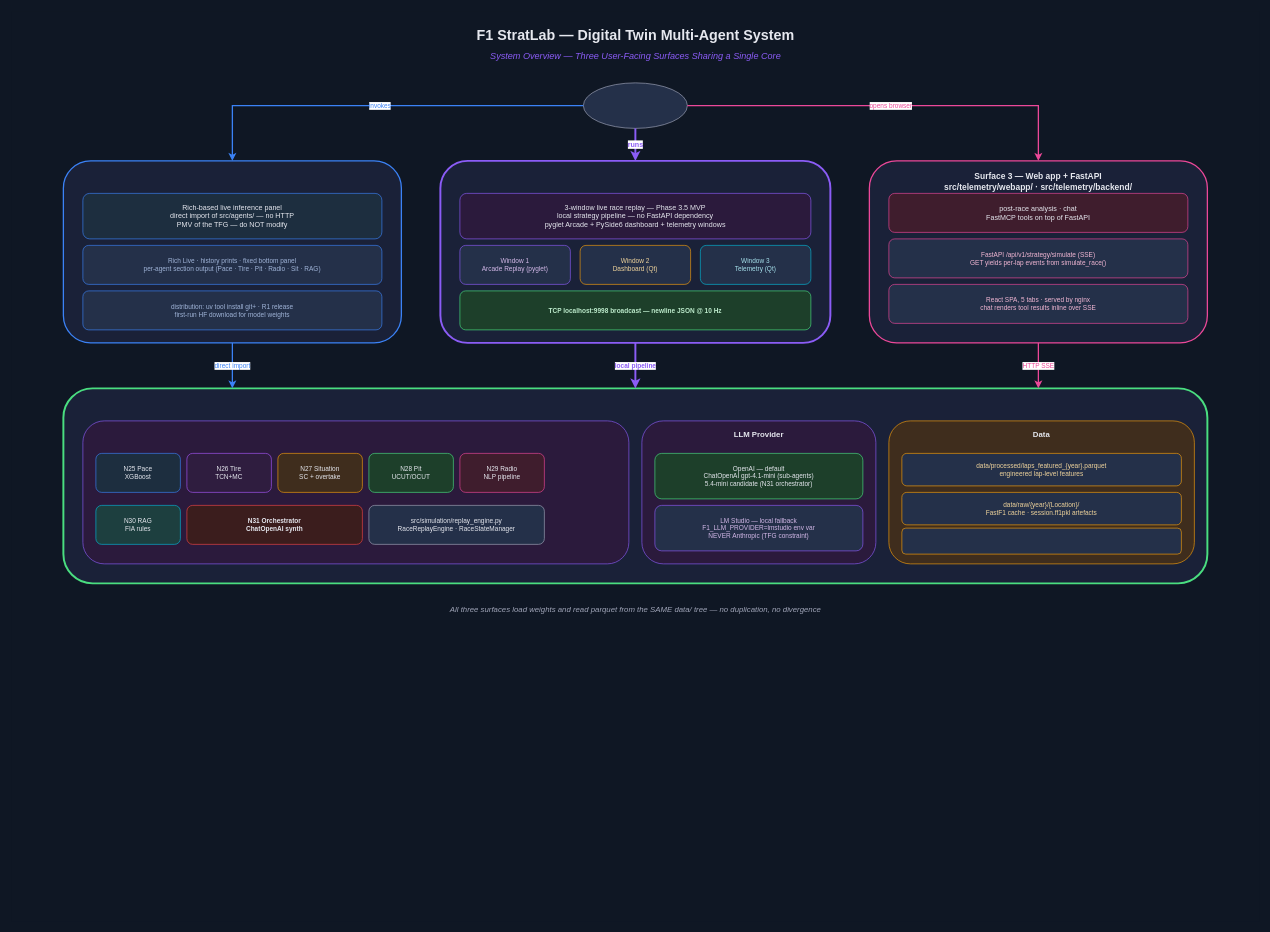
The diagram is 1270 pixels wide and 932 high, and some of its shapes have lost their labels. The box of each missing label's shape, as (x1, y1, x2, y2) in pixels:
data/models/— tire_degradation · pit_prediction · nlp · overtake · sc_prob: (901, 527, 1181, 554)
Shared Core — src/: (62, 387, 1208, 584)
src/agents/ — N25-N31 Multi-Agent System: (82, 420, 629, 564)
Surface 1 — CLI scripts/run_simulation_cli.py: (62, 160, 402, 343)
Surface 2 — Arcade (MAIN FOCUS) python -m src.arcade.main --viewer --strategy: (439, 160, 831, 344)
User (TFG defense, engineers): (583, 82, 687, 128)
